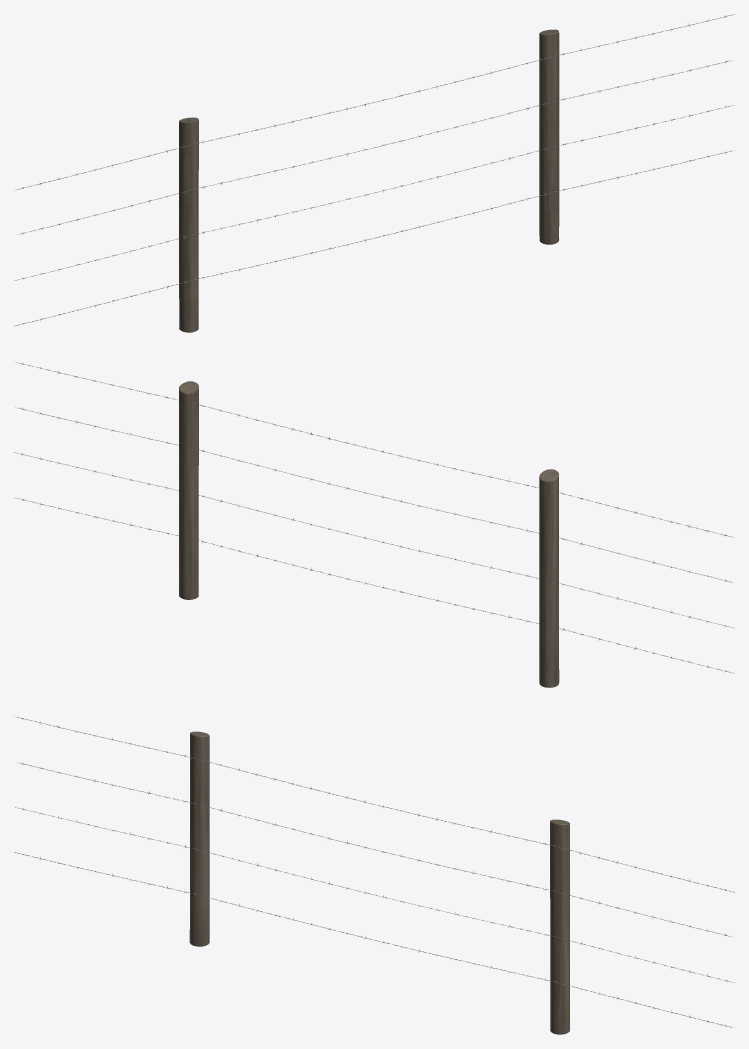
File: barbed_wire.glb
The picture shows the model from 3 angles, top to bottom: view 1: azimuth 30°, elevation 25°; view 2: azimuth 150°, elevation 25°; view 3: azimuth 330°, elevation 25°; orthographic projection.
Visible parts, largest first — view 1: barbed-wire-fence_body; view 2: barbed-wire-fence_body; view 3: barbed-wire-fence_body.
Part boxes in pixels (left/top/right/bottom): barbed-wire-fence_body: left=14, top=14, right=734, bottom=332; barbed-wire-fence_body: left=14, top=362, right=734, bottom=687; barbed-wire-fence_body: left=14, top=716, right=734, bottom=1034.
Size of the model in its own units: 5 by 1.4 by 0.1385.
Materials: 1 (1 with a texture image).
